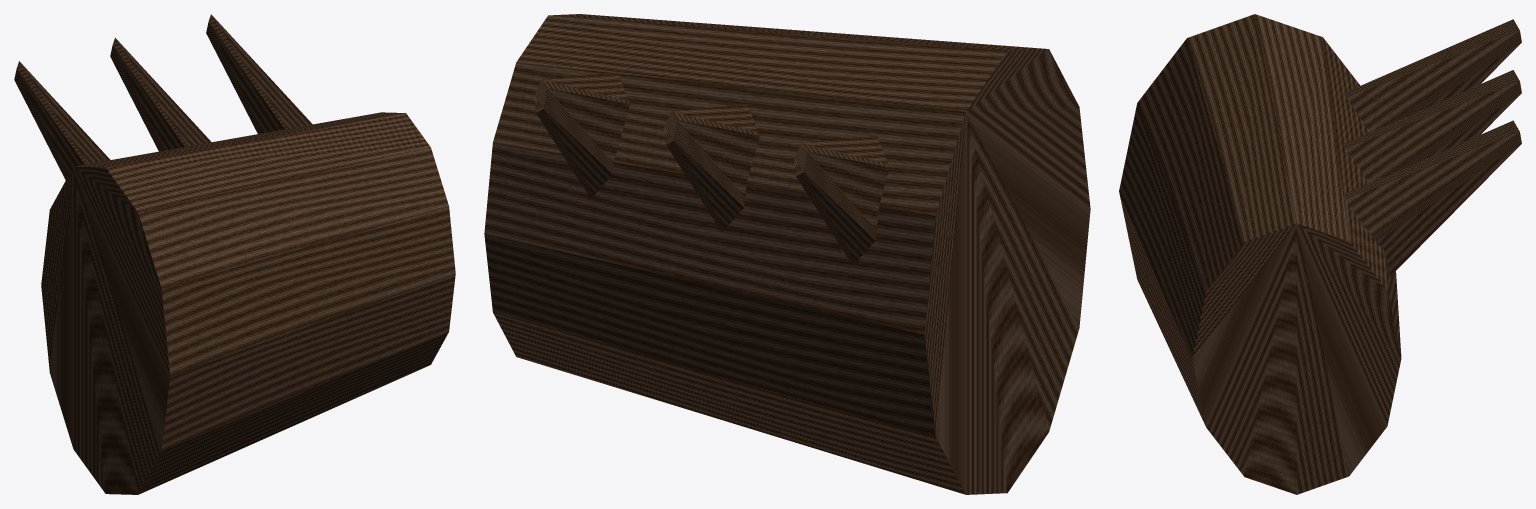
Rendered from driftwood_01.fbx.
3 views of the same model, side by side, from view 1: azimuth 30°, elevation 25°; view 2: azimuth 150°, elevation 25°; view 3: azimuth 270°, elevation 25° (orthographic). The views are drawn at different scales.
Parts seen in each view (by area): view 1: driftwood_01_LOD0; view 2: driftwood_01_LOD0; view 3: driftwood_01_LOD0.
Boxes of the visible parts, x1=… form: driftwood_01_LOD0: x1=14, y1=14, x2=455, y2=494; driftwood_01_LOD0: x1=484, y1=14, x2=1090, y2=494; driftwood_01_LOD0: x1=1119, y1=14, x2=1521, y2=494.
Size of what is drawn, in the model's own units: 1 by 1 by 1.
